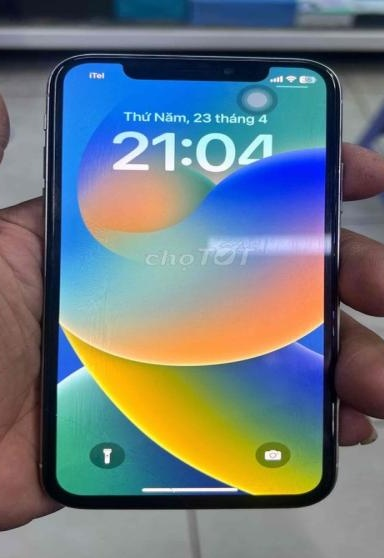physical_damage: (53, 410, 192, 496)
